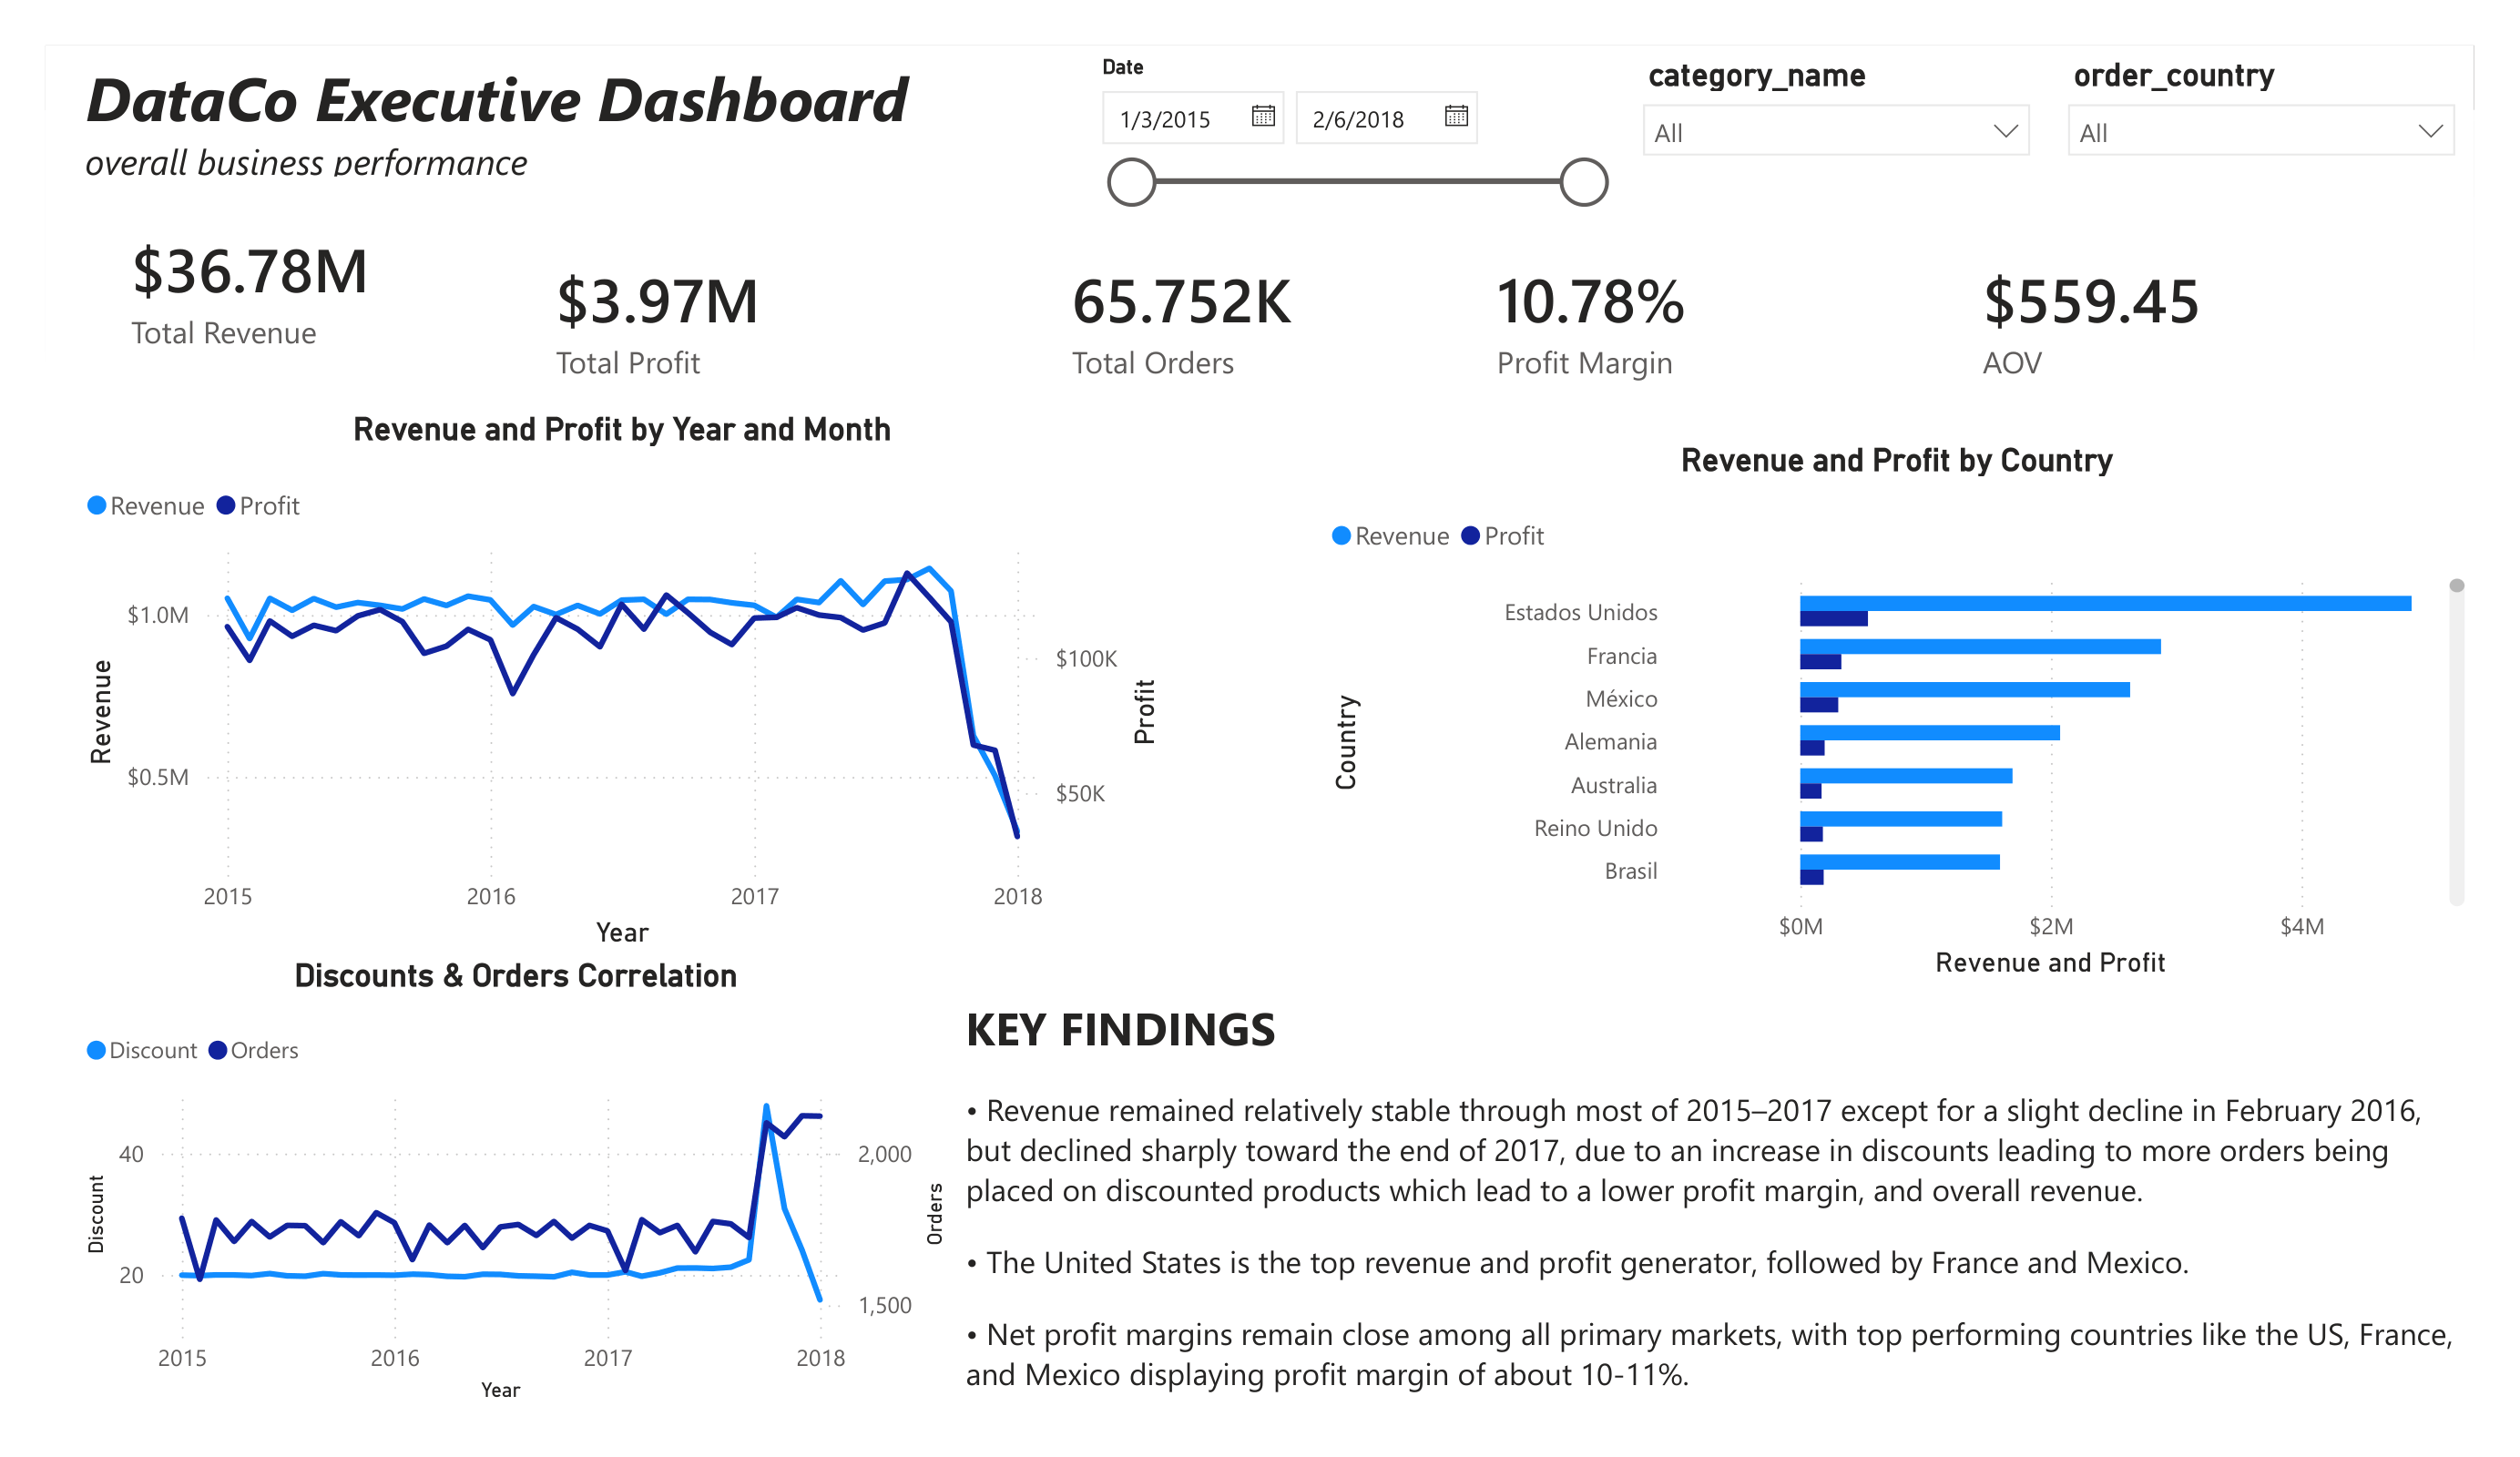

What the dashboard file says about the page in this screenshot:
{"tool":"powerbi","page":{"name":"Page 1","canvas":[1280,720],"ordinal":0},"visuals":[{"type":"textbox","box":[16,0,528,112],"z":0},{"type":"cardVisual","title":"Total Revenue","fields":{"Data":["Sum(dataco order_items.sales)"]},"box":[16,64,288,128],"z":1000},{"type":"cardVisual","fields":{"Data":["Sum(dataco order_items.order_profit_per_order)"]},"box":[240,80,272,128],"z":2000},{"type":"cardVisual","fields":{"Data":["Count(dataco orders.order_id)"]},"box":[512,80,272,128],"z":3000},{"type":"cardVisual","fields":{"Data":["dataco order_items.Profit Margin"]},"box":[736,80,288,128],"z":4000},{"type":"cardVisual","fields":{"Data":["dataco order_items.AOV"]},"box":[992,80,288,128],"z":5000},{"type":"lineChart","fields":{"Y":["Sum(dataco order_items.sales)"],"Category":["dataco orders.order_date_dateorders.Variation.Date Hierarchy.Year","dataco orders.order_date_dateorders.Variation.Date Hierarchy.Month"],"Y2":["Sum(dataco order_items.order_profit_per_order)"]},"box":[16,192,576,288],"z":6000},{"type":"clusteredBarChart","fields":{"Category":["dataco orders.order_country"],"Y":["Sum(dataco order_items.sales)","Sum(dataco order_items.order_profit_per_order)"]},"box":[672,208,608,288],"z":7000},{"type":"slicer","fields":{"Values":["order_processing.shipping_date_dateorders"]},"box":[544,0,288,96],"z":8000},{"type":"slicer","fields":{"Values":["dataco orders.order_country"]},"box":[1056,0,224,64],"z":9000},{"type":"slicer","fields":{"Values":["dataco products.category_name"]},"box":[832,0,224,64],"z":10000},{"type":"textbox","box":[480,496,800,224],"z":11000},{"type":"lineChart","title":"Discounts & Orders Correlation","fields":{"Category":["dataco orders.order_date_dateorders.Variation.Date Hierarchy.Year","dataco orders.order_date_dateorders.Variation.Date Hierarchy.Month"],"Y":["Avg(dataco order_items.order_item_discount)"],"Y2":["Count(dataco order_items.order_id)"]},"box":[16,480,464,240],"z":12000}]}

Visuals, with their boxes on the page's 1280x720 design canvas (x1, y1, x2, y2). These are canvas units, not pixel positions in the 2520x1457 screenshot, which may show the page scaled, cropped or inside an application window:
textbox: locate(16, 0, 544, 112)
"Total Revenue" cardVisual: locate(16, 64, 304, 192)
cardVisual - Sum(dataco order_items.order_profit_per_order): locate(240, 80, 512, 208)
cardVisual - Count(dataco orders.order_id): locate(512, 80, 784, 208)
cardVisual - dataco order_items.Profit Margin: locate(736, 80, 1024, 208)
cardVisual - dataco order_items.AOV: locate(992, 80, 1280, 208)
lineChart - Sum(dataco order_items.sales) x dataco orders.order_date_dateorders.Variation.Date Hierarchy.Year: locate(16, 192, 592, 480)
clusteredBarChart - dataco orders.order_country x Sum(dataco order_items.sales): locate(672, 208, 1280, 496)
slicer - order_processing.shipping_date_dateorders: locate(544, 0, 832, 96)
slicer - dataco orders.order_country: locate(1056, 0, 1280, 64)
slicer - dataco products.category_name: locate(832, 0, 1056, 64)
textbox: locate(480, 496, 1280, 720)
"Discounts & Orders Correlation" lineChart: locate(16, 480, 480, 720)
